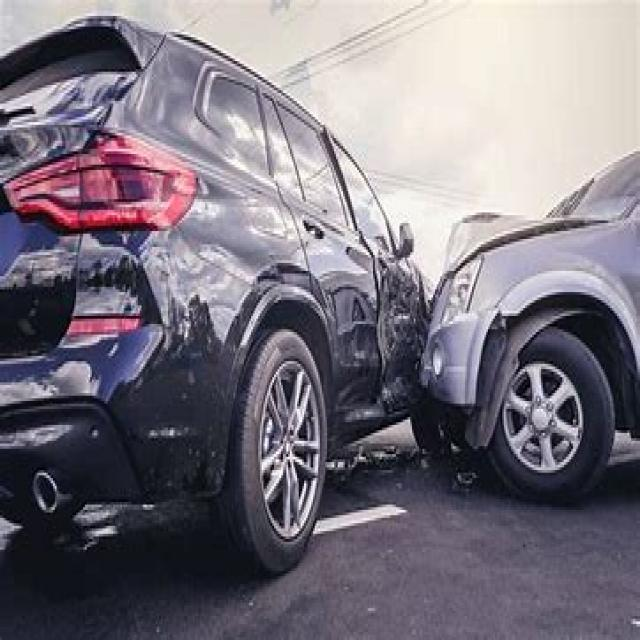Accident: (197, 35, 586, 513)
